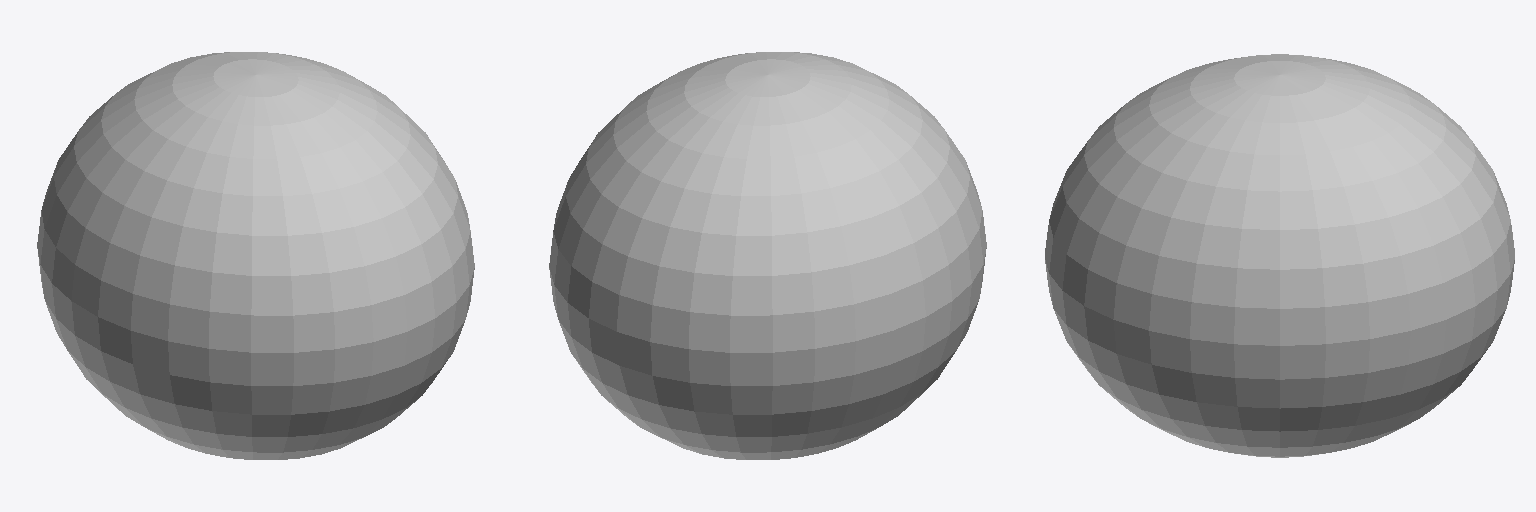
The model's file is treedome.obj.
3 views of the same model, side by side, from view 1: azimuth 30°, elevation 25°; view 2: azimuth 150°, elevation 25°; view 3: azimuth 270°, elevation 25° (orthographic).
Parts seen in each view (by area): view 1: 球; view 2: 球; view 3: 球.
Boxes of the visible parts, box(x1,y1,x2,y2) form: 球: box(37, 52, 474, 459); 球: box(549, 52, 986, 459); 球: box(1045, 54, 1514, 457).
Size of the model in its own units: 272 by 255 by 300.